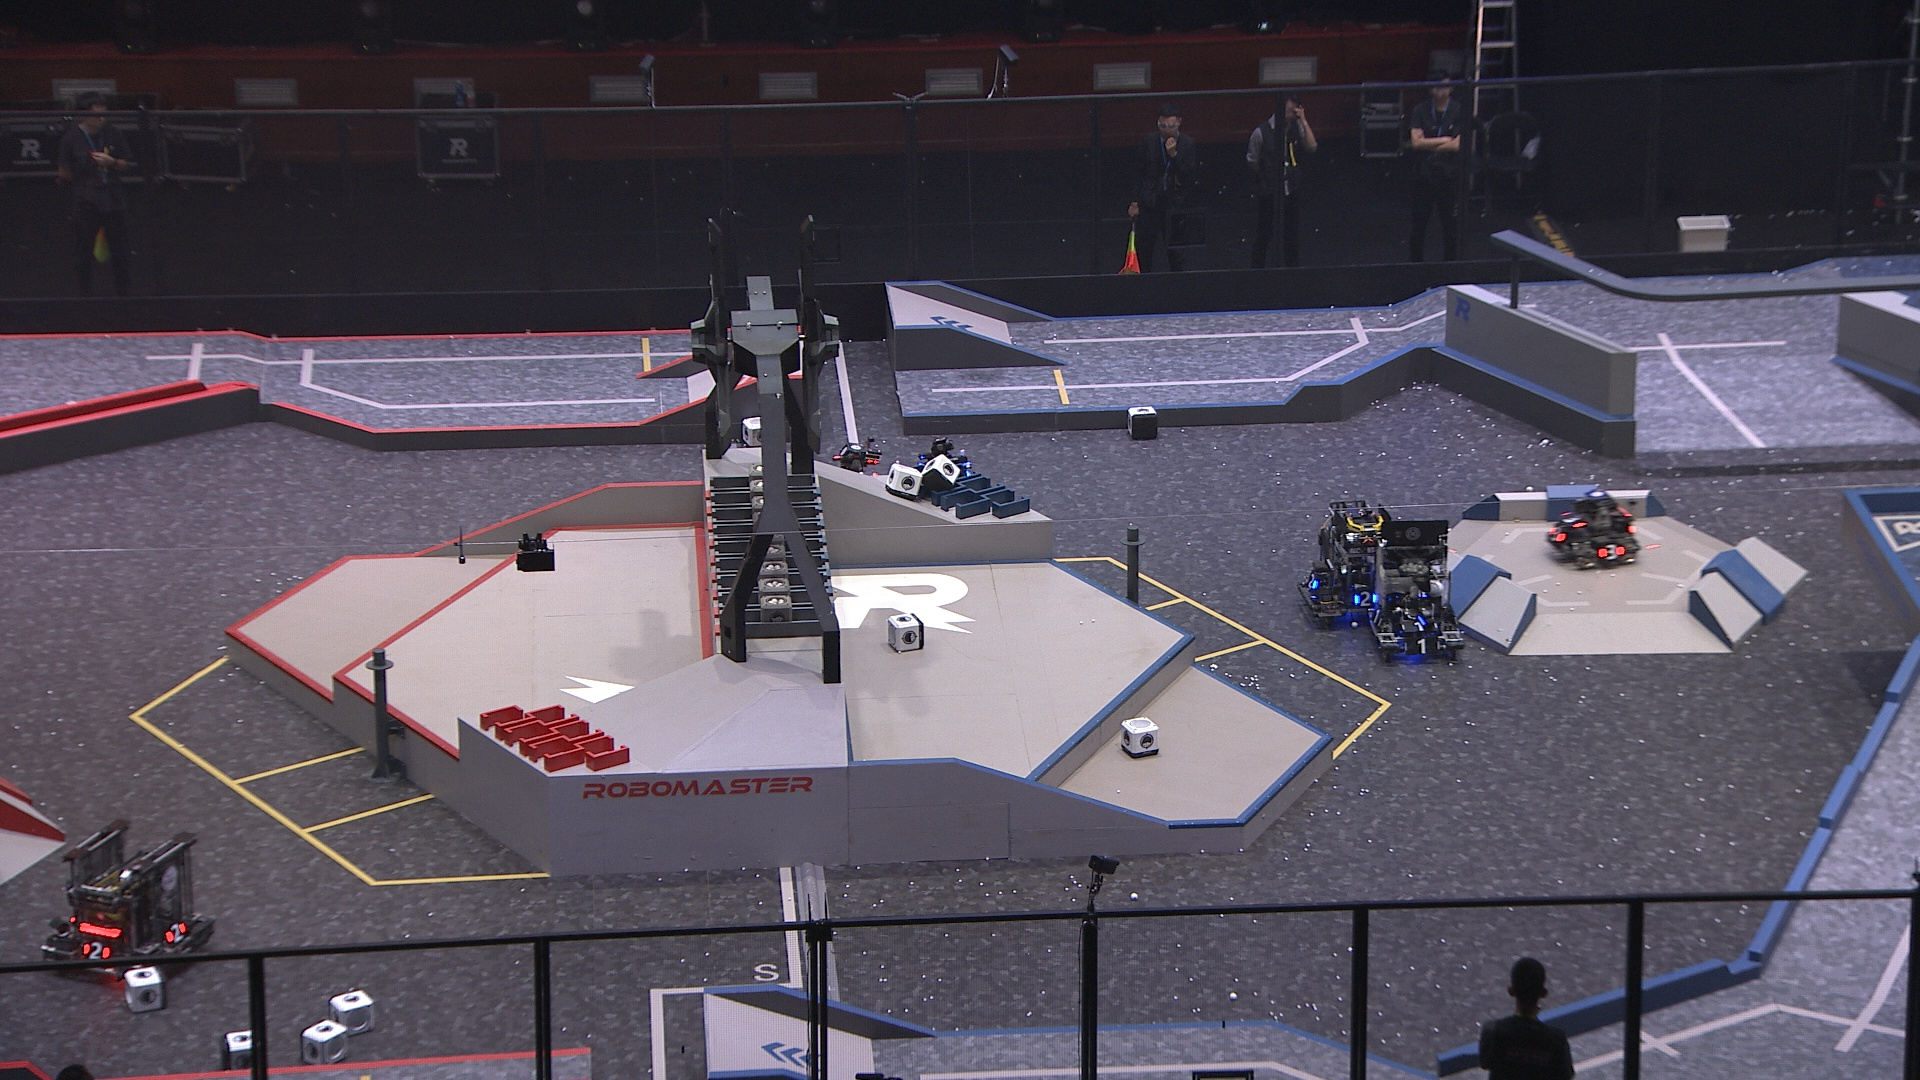armor: (1404, 636, 1441, 654), (80, 942, 109, 963), (164, 920, 186, 945), (1400, 618, 1437, 633), (1600, 541, 1626, 560), (1565, 512, 1588, 531), (1367, 604, 1385, 628), (1352, 591, 1375, 605), (1547, 526, 1564, 545), (1305, 570, 1317, 591)
car: (44, 818, 215, 981), (1361, 517, 1462, 657), (1299, 491, 1396, 628), (1544, 489, 1642, 571), (909, 438, 984, 506), (829, 442, 894, 501)
